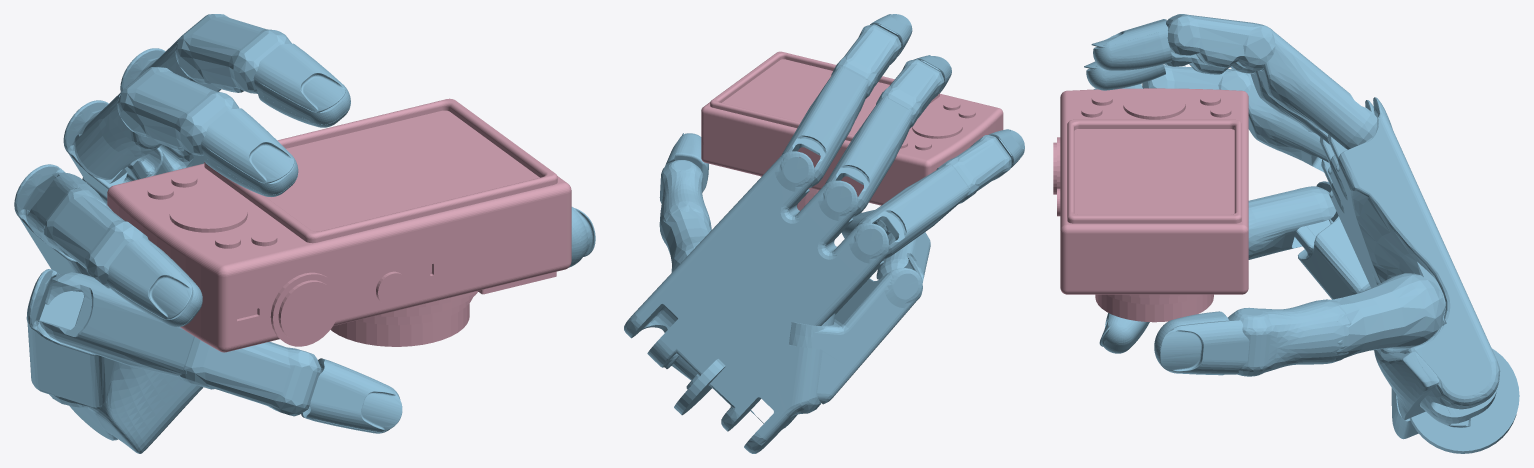
The picture shows the model from 3 angles, left to right: view 1: azimuth 30°, elevation 25°; view 2: azimuth 150°, elevation 25°; view 3: azimuth 270°, elevation 25°; orthographic projection. The views are drawn at different scales.
Parts seen in each view (by area): view 1: world, camera.stl; view 2: world, camera.stl; view 3: world, camera.stl.
Boxes of the visible parts, left/top/right/bottom form: world: left=14, top=14, right=595, bottom=453; camera.stl: left=107, top=98, right=571, bottom=352; world: left=624, top=14, right=1024, bottom=453; camera.stl: left=701, top=51, right=1003, bottom=210; world: left=1084, top=14, right=1519, bottom=453; camera.stl: left=1053, top=88, right=1248, bottom=322.
Bounding box in the file's own units: 0.1615 × 0.1624 × 0.1601.
